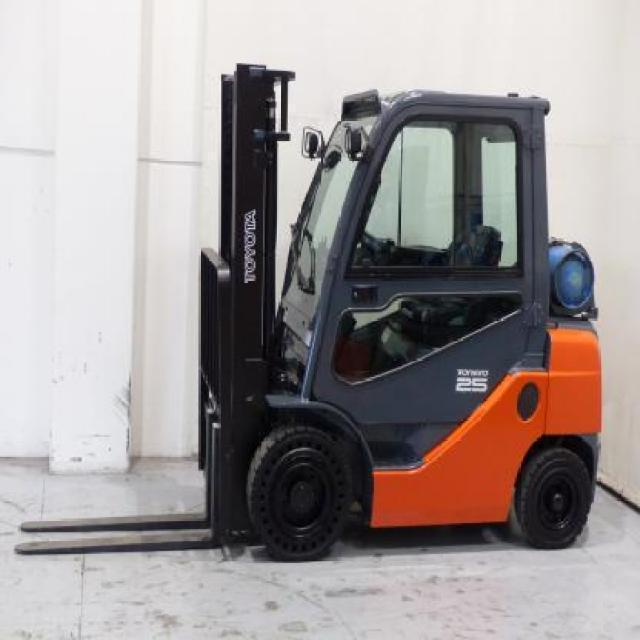forklift: (197, 68, 602, 564)
